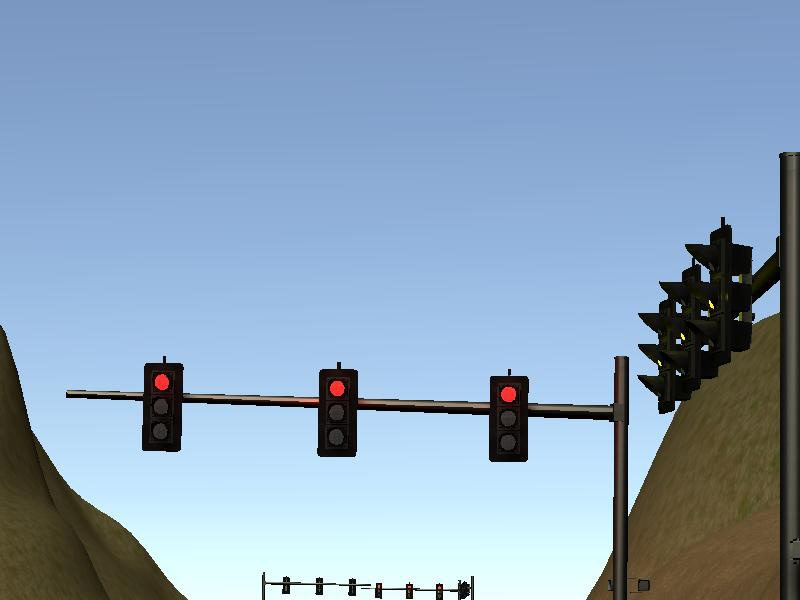Red: (487, 372, 530, 466), (317, 366, 360, 460), (141, 361, 184, 455)
